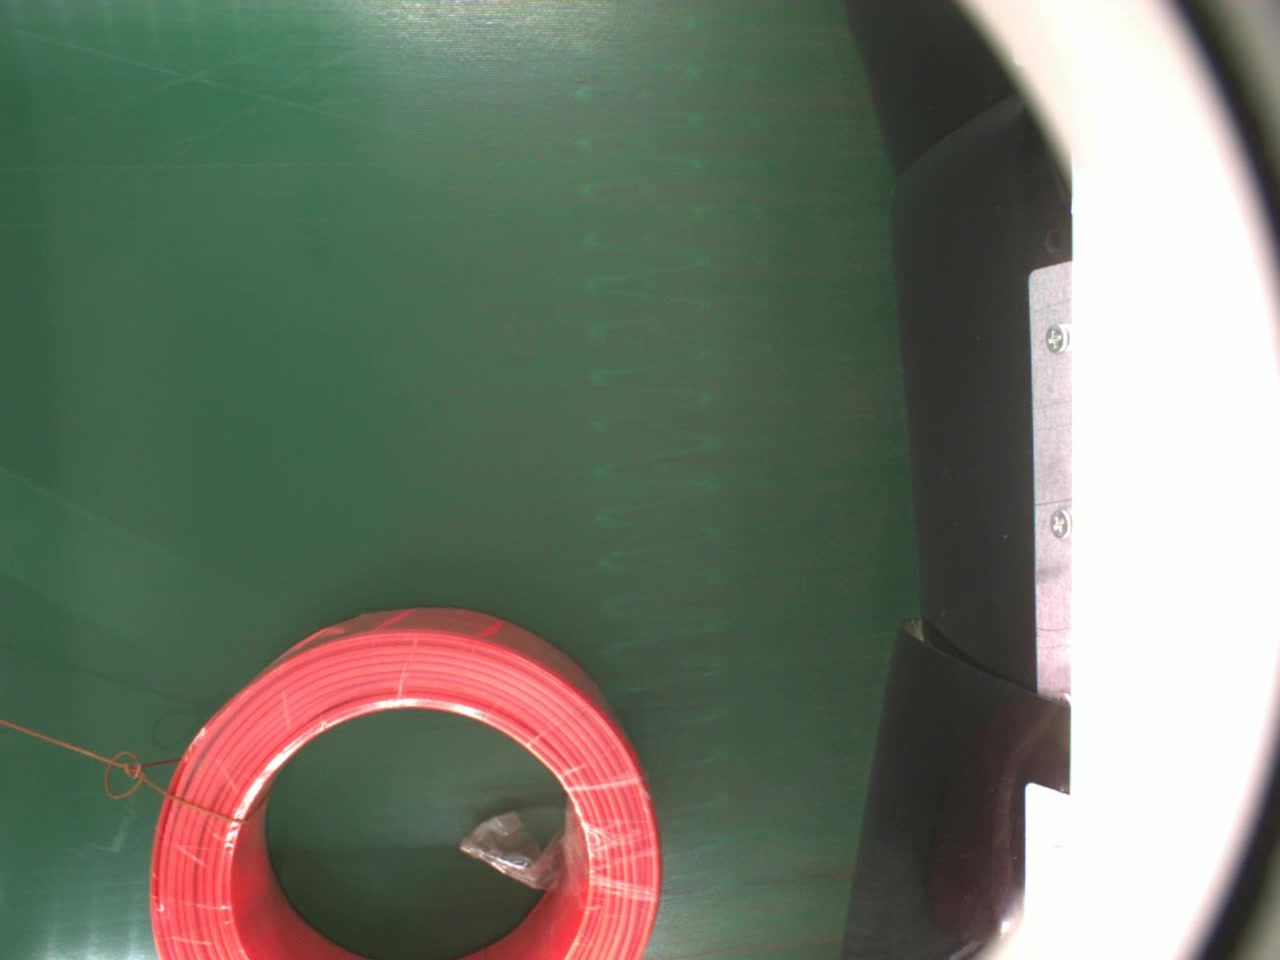red: (145, 602, 664, 960)
